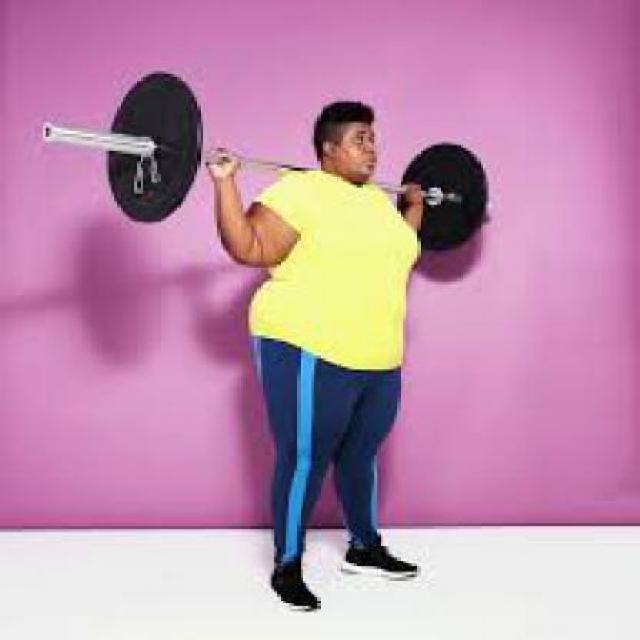Barbell: (37, 116, 60, 149)
